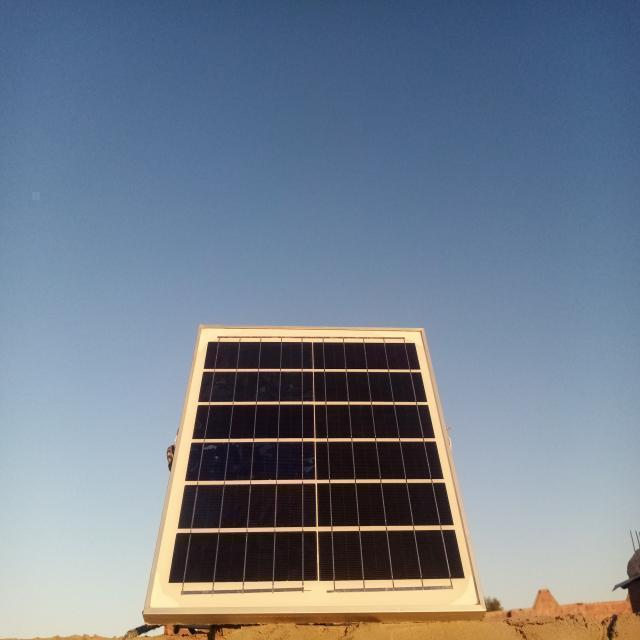Normal Solar Panel: (143, 327, 485, 612)
